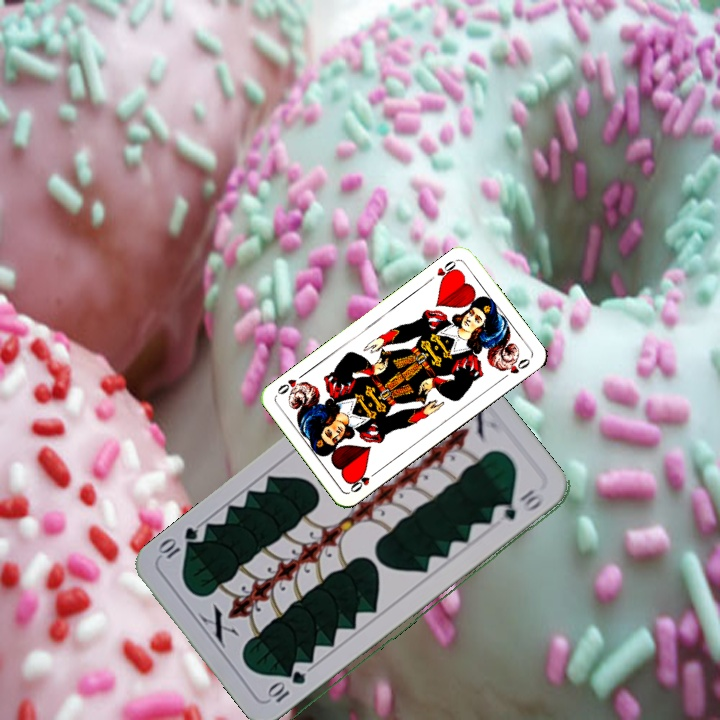G10: (266, 668, 309, 706)
HO: (346, 467, 381, 495), (433, 256, 460, 285)
